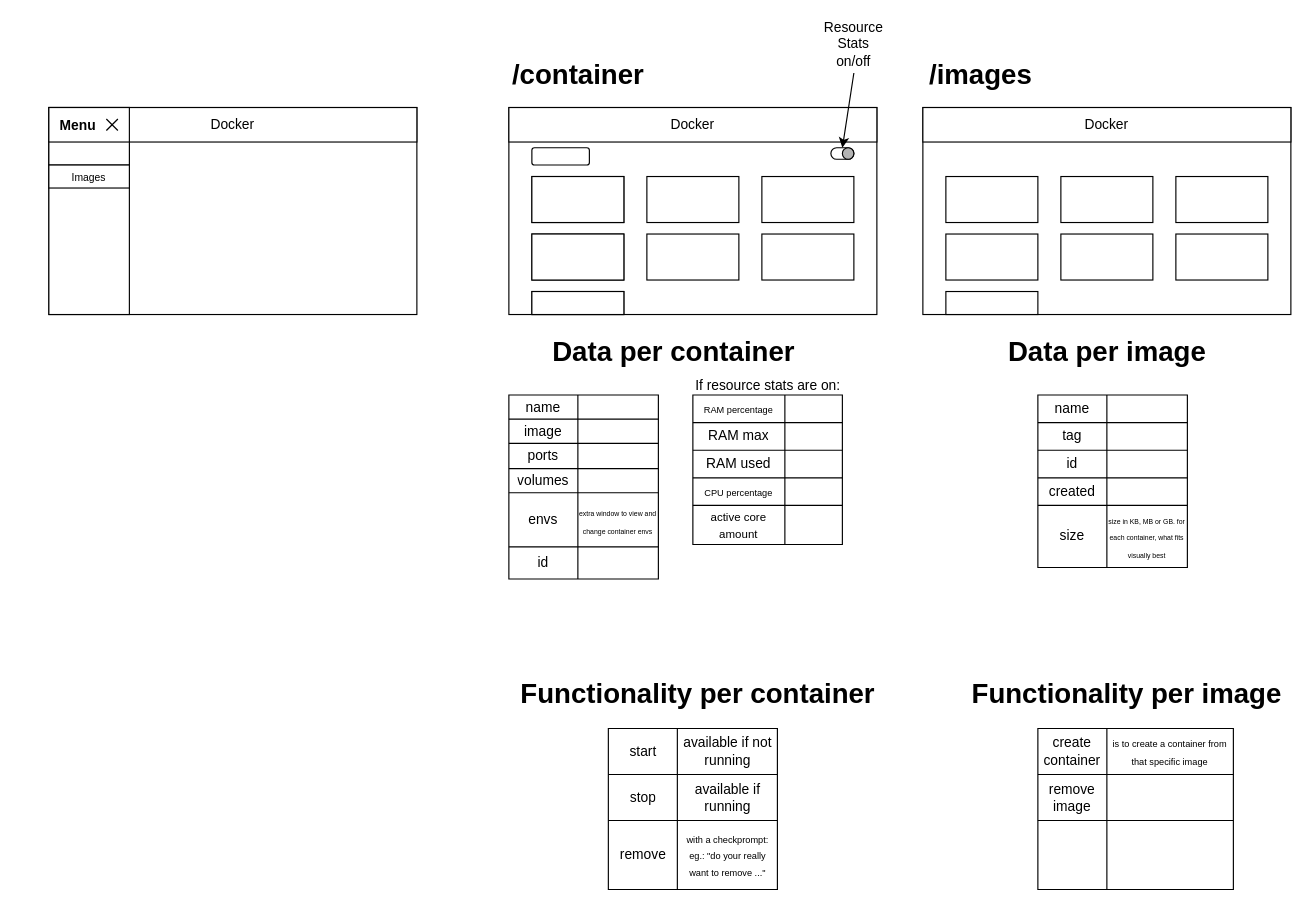
The diagram is 1311 pixels wide and 910 high, and some of its shapes have lost their labels. Here are the shapes that lost their labels. From the top down, the centre of each, then its label:
the point at 88,153: Container
the point at 560,156: Create
